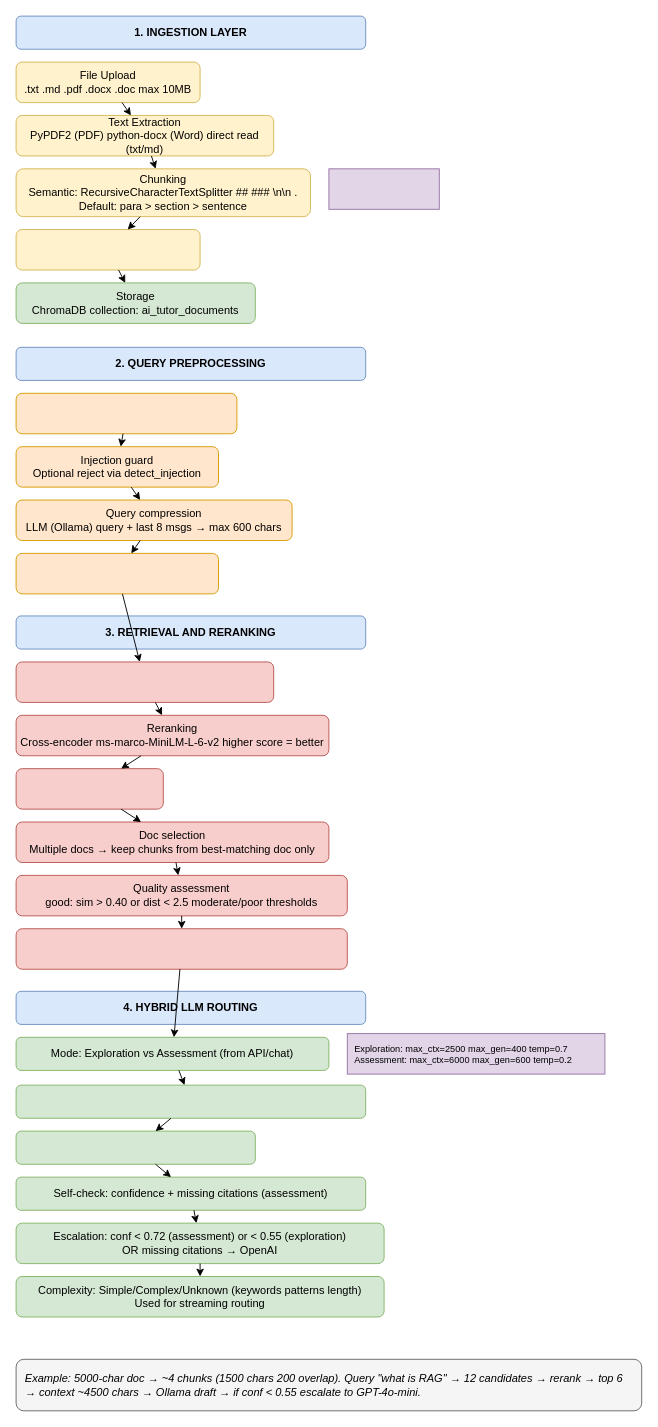
Image size: 658x1427. Some labels were removed from this diagram. The shapes that lost their labels are listed below. From the top down, each one's centre as x and y in pixels, then its label:
point (383, 188): chunk_size=1500 chunk_overlap=200
point (107, 249): Embedding all-MiniLM-L6-v2
point (126, 413): Demo check Hardcoded RAG Q&A for specific questions
point (116, 573): Multi-query Optional: 2–3 variants via Ollama
point (144, 681): Vector search ChromaDB top_k=12 distance threshold < 2.0
point (89, 788): Rerank output Top 6 chunks
point (181, 948): Context build max_context_chars=4500 Context N (from filename): text
point (190, 1101): Provider order: Ollama → OpenAI → Mock (all complexity)
point (135, 1147): Draft: Always try Ollama first
